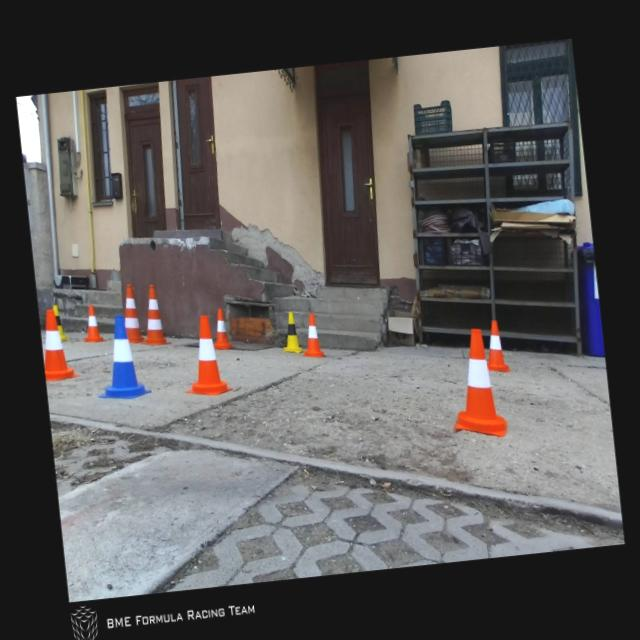blue_cone: (90, 312, 152, 402)
large_orange_cone: (136, 282, 171, 348), (120, 282, 144, 344)
orange_cone: (444, 326, 509, 442), (178, 313, 232, 397), (38, 306, 79, 381), (481, 318, 510, 374), (298, 311, 325, 358), (209, 306, 234, 350), (81, 304, 103, 343)
yellow_cone: (279, 310, 302, 354), (52, 303, 68, 340)
